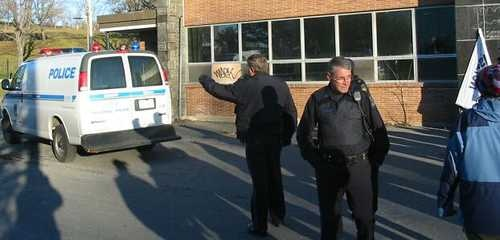Police Van: (10, 31, 182, 162)
